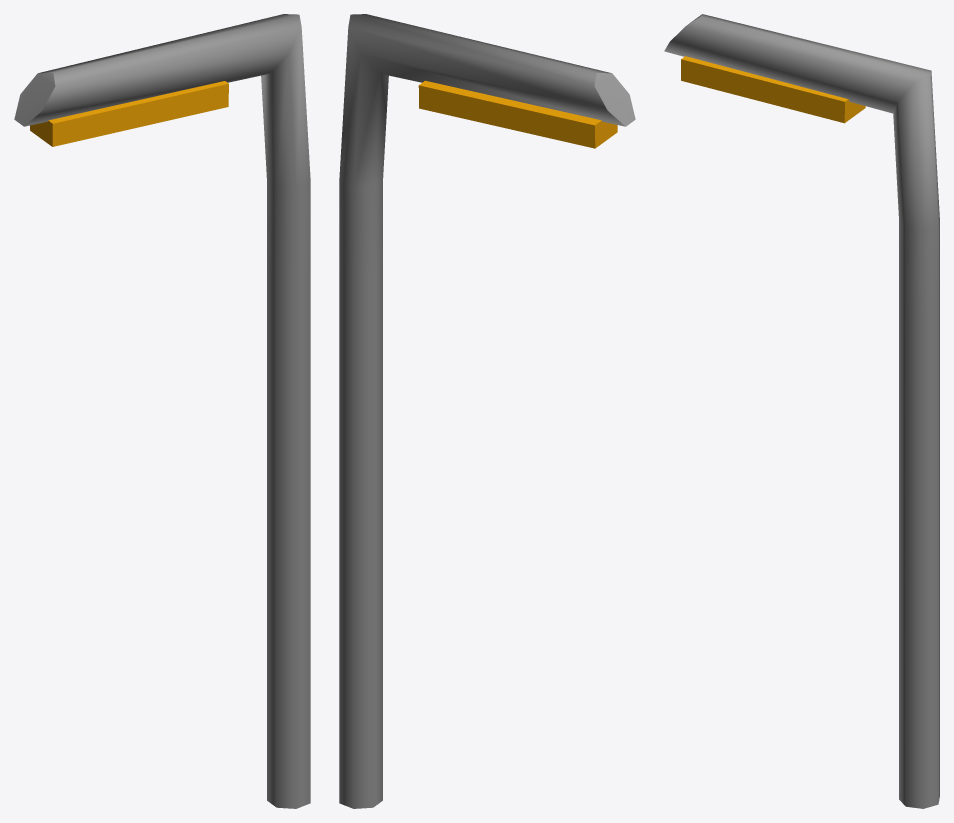
The model's file is Lamp.DAE.
The picture shows the model from 3 angles, left to right: view 1: azimuth 30°, elevation 25°; view 2: azimuth 150°, elevation 25°; view 3: azimuth 330°, elevation 25°; orthographic projection. The views are drawn at different scales.
Parts seen in each view (by area): view 1: Cylinder001; view 2: Cylinder001; view 3: Cylinder001.
Boxes of the visible parts, box(x1,y1,x2,y2) form: Cylinder001: box(14, 14, 310, 808); Cylinder001: box(339, 14, 635, 808); Cylinder001: box(664, 14, 939, 808).
Bounding box in the file's own units: 13.91 × 35.95 × 1.95.
